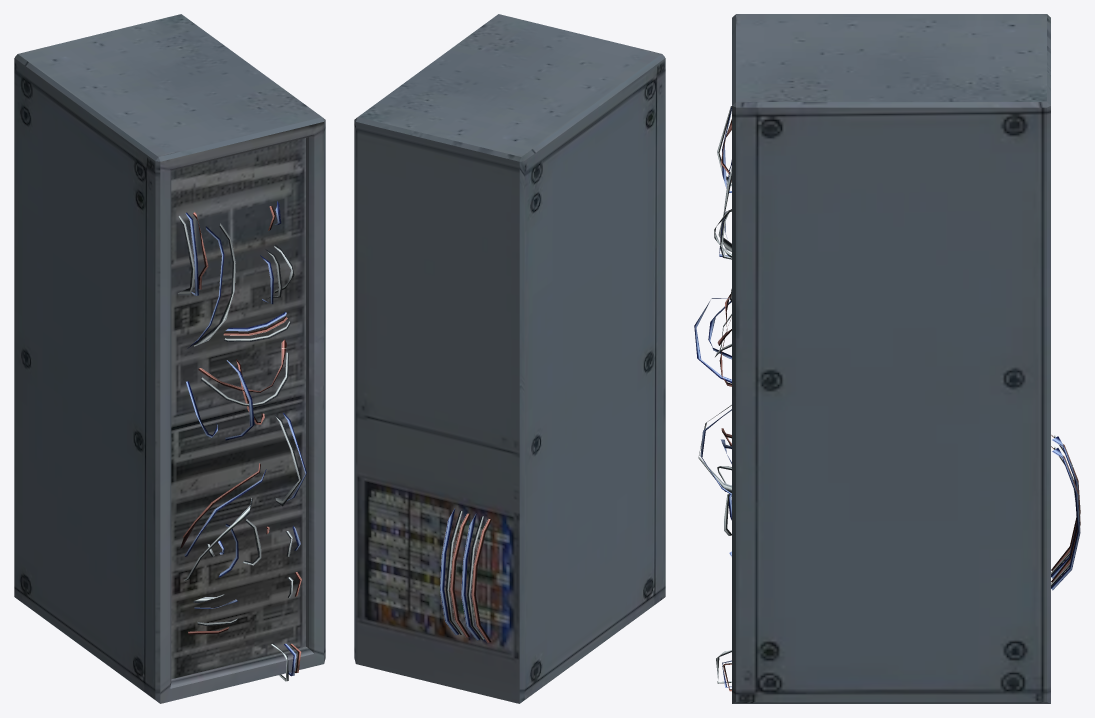
The model's file is rack.gltf.
The picture shows the model from 3 angles, left to right: view 1: azimuth 30°, elevation 25°; view 2: azimuth 150°, elevation 25°; view 3: azimuth 270°, elevation 25°; orthographic projection. The views are drawn at different scales.
Parts seen in each view (by area): view 1: Cube.001_Material.001_0.004; view 2: Cube.001_Material.001_0.004; view 3: Cube.001_Material.001_0.004.
Part boxes in pixels (x1=…): Cube.001_Material.001_0.004: x1=14, y1=14, x2=325, y2=703; Cube.001_Material.001_0.004: x1=354, y1=14, x2=665, y2=703; Cube.001_Material.001_0.004: x1=694, y1=14, x2=1080, y2=703.
Size of the model in its own units: 0.3252 by 1 by 0.5797.
1 material, 1 textured.
